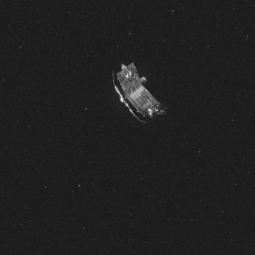lisa_pathfinder: (106, 47, 187, 131)
